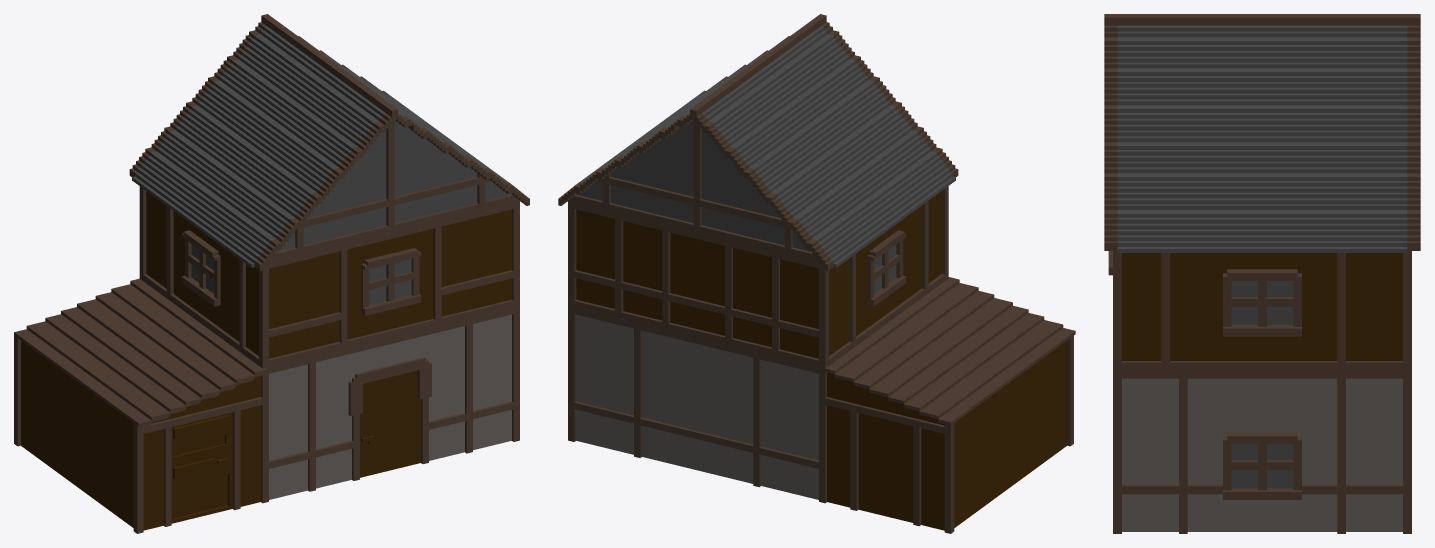
Rendered from Casa 11.obj.
3 renders of one model, left to right at view 1: azimuth 30°, elevation 25°; view 2: azimuth 150°, elevation 25°; view 3: azimuth 270°, elevation 25°, orthographic. The views are drawn at different scales.
Size of the model in its own units: 12.5 by 11.1 by 7.2.
1 material, 1 textured.
